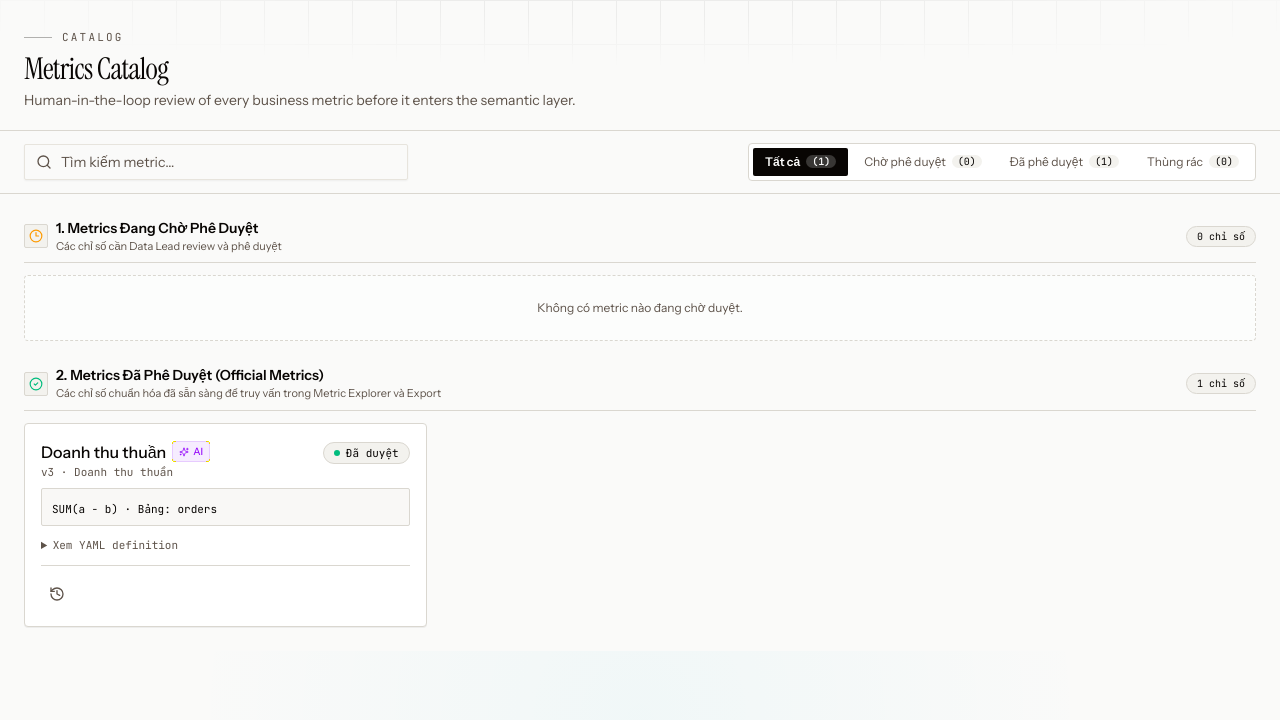
Test: MetricsCatalogView history modal › retains the history modal and shows a Vietnamese error when rollback fails
This screenshot has width=1280, height=720.
Step 1. Click the button titled "Xem lịch sử phiên bản" → {"x": 57, "y": 594}, box [41, 578, 73, 610]
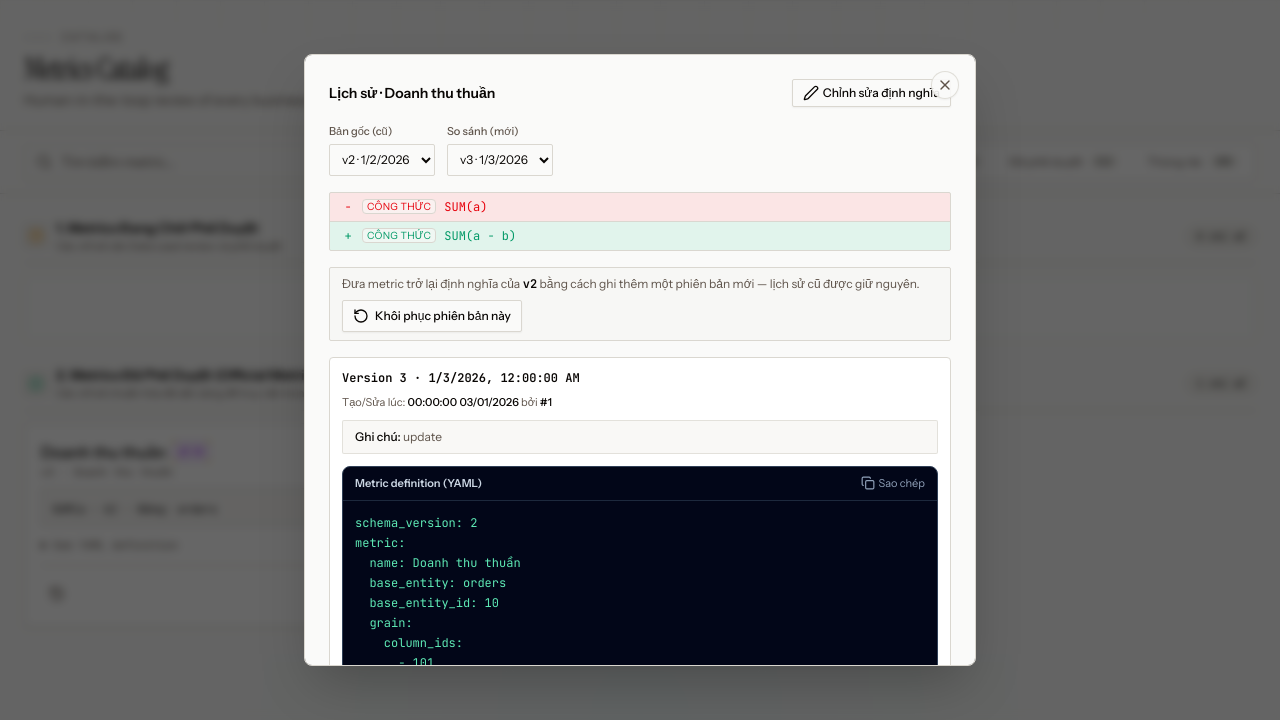
Now the dialog is shown, box [304, 54, 976, 666]
Step 2. Click the button "Khôi phục phiên bản này" → {"x": 432, "y": 316}, box [342, 300, 522, 332]
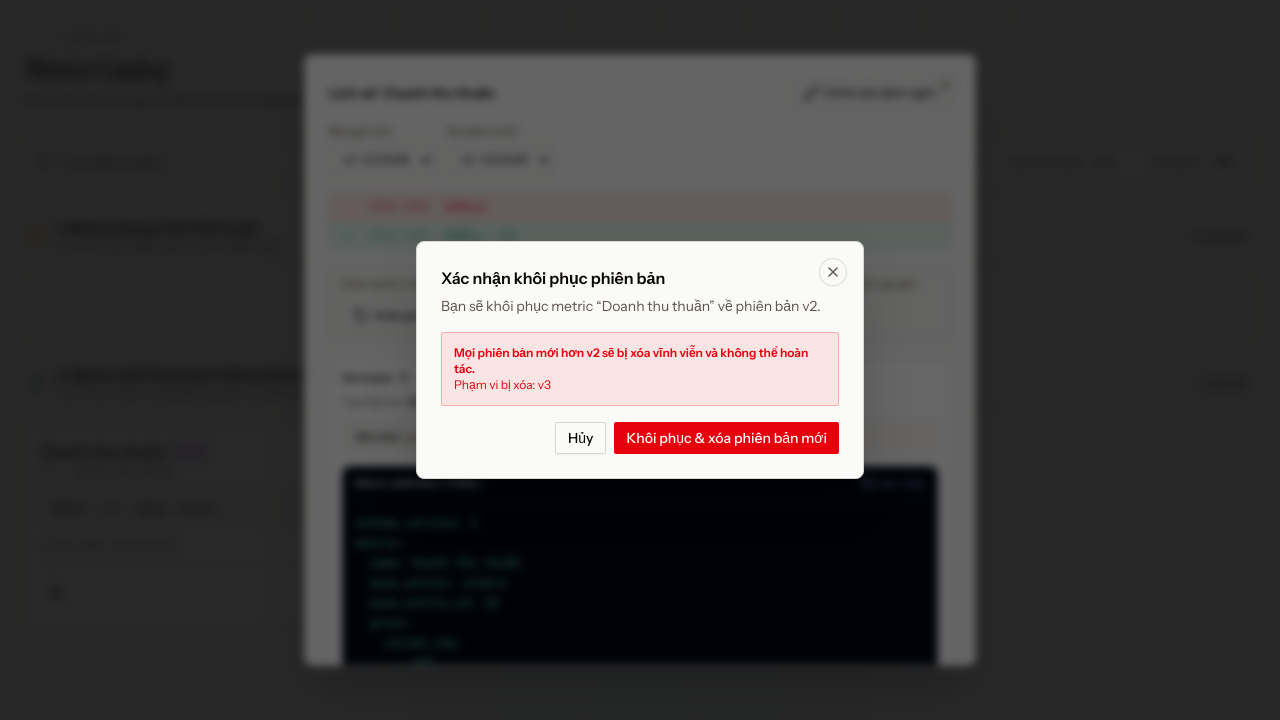
Step 3. Click the button "Khôi phục & xóa phiên bản mới" → {"x": 727, "y": 438}, box [614, 422, 839, 454]
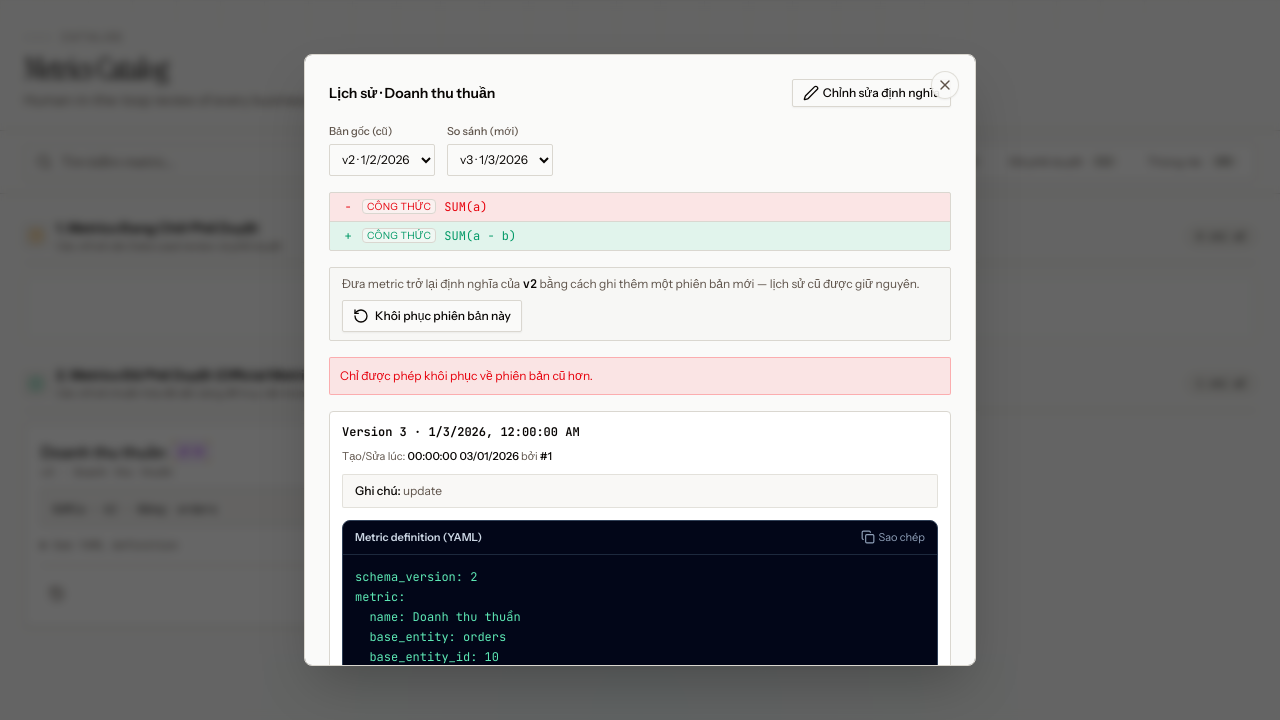
Now the heading "Lịch sử · Doanh thu thuần" is shown, box [329, 83, 495, 103]
Now the text "Chỉ được phép khôi phục về phiên bản cũ hơn." is shown, box [329, 356, 951, 394]
